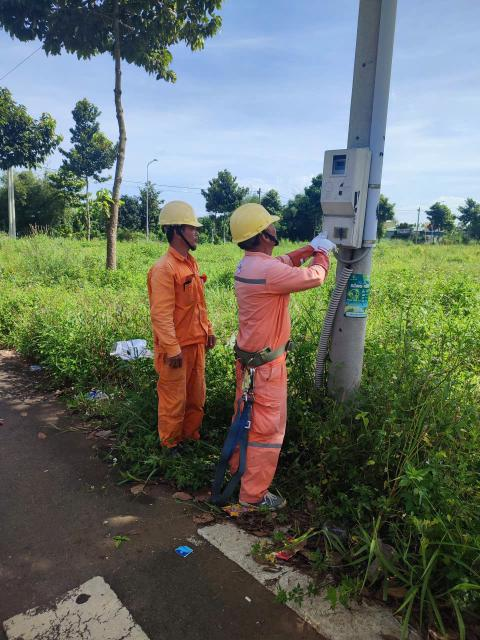gloves: (304, 226, 340, 257)
harness: (212, 328, 298, 367)
helmet: (225, 191, 287, 245), (145, 193, 208, 237), (243, 481, 287, 510)
